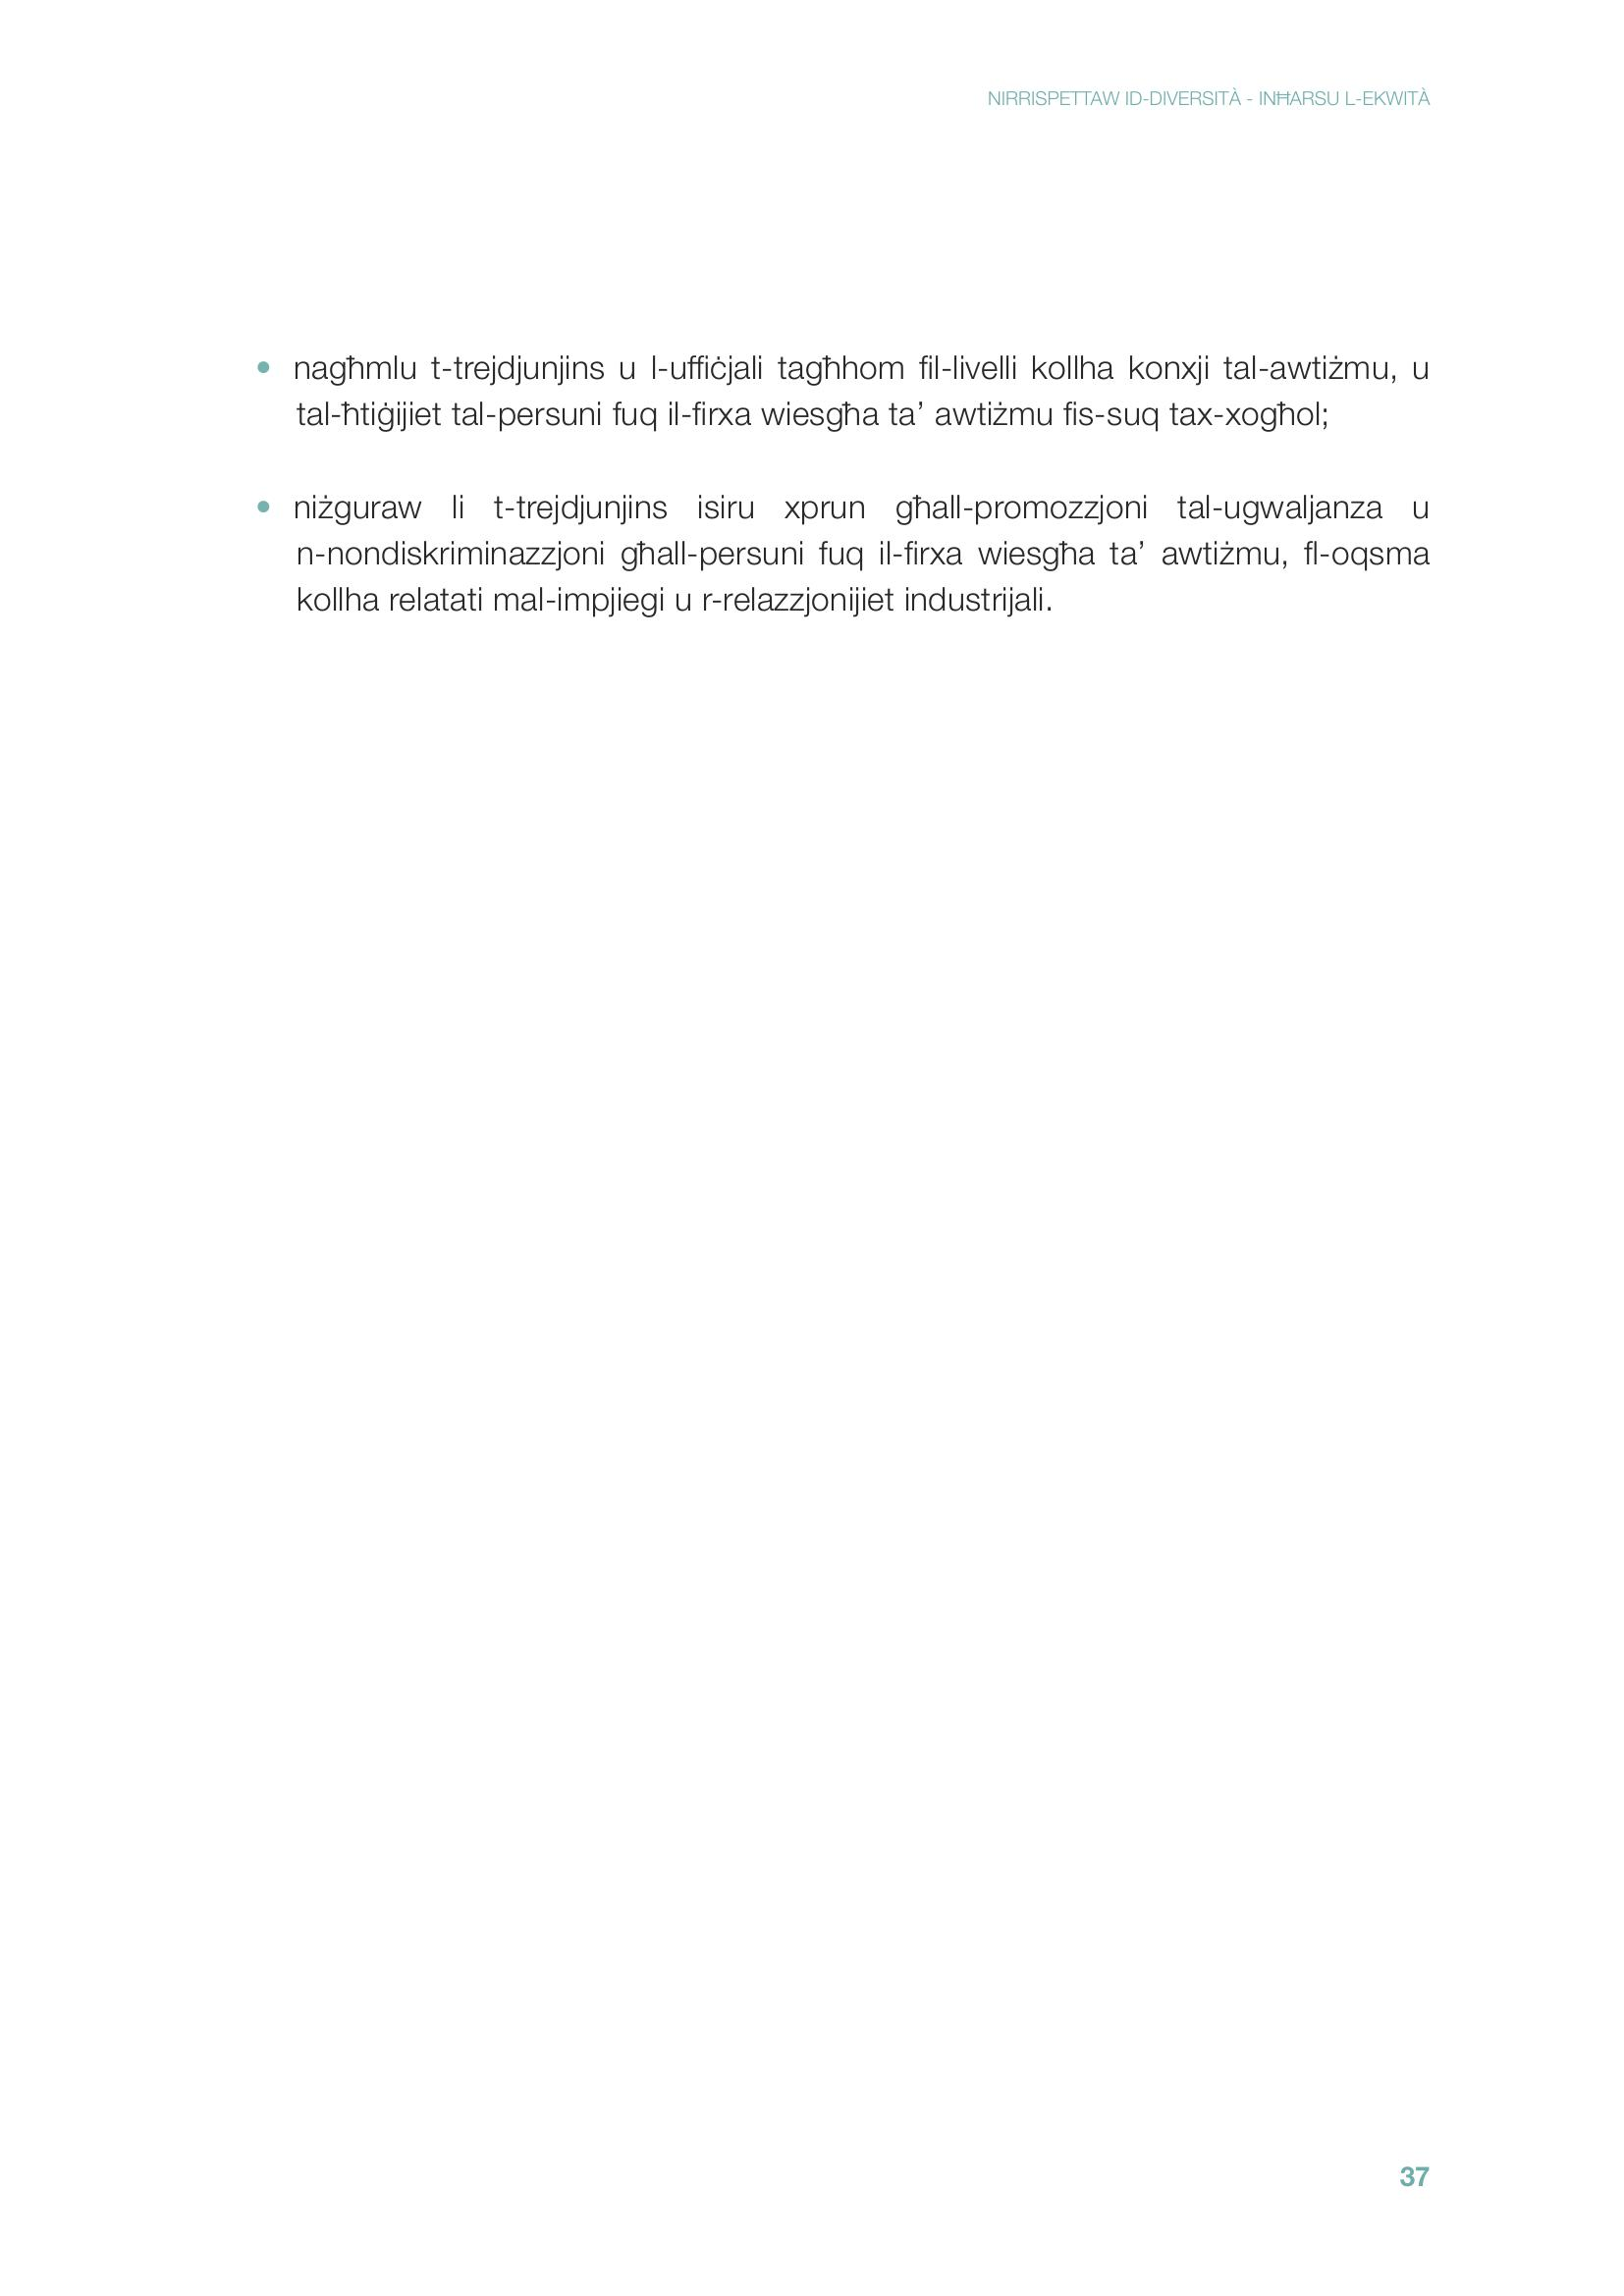text: (214, 341, 1441, 639)
